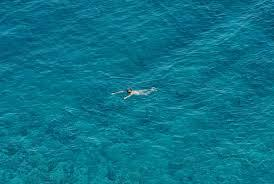swimmer: (109, 85, 158, 101)
